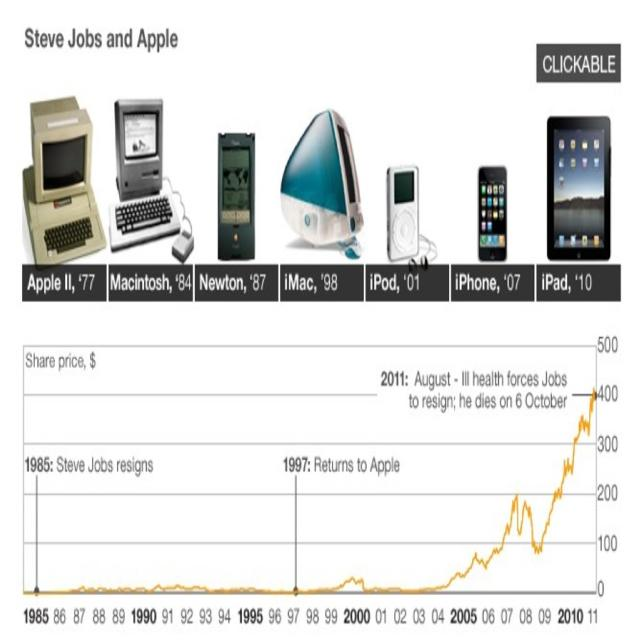Mobile-phone: (548, 115, 611, 261), (217, 130, 257, 264), (476, 152, 516, 254)
